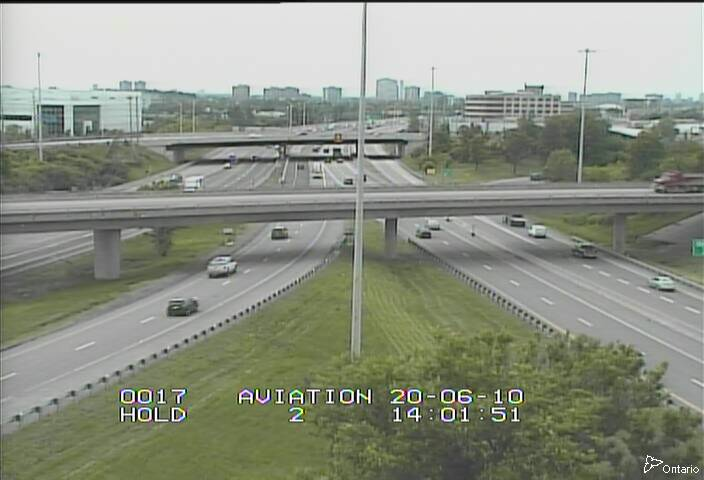time_stamp: (383, 407, 534, 428), (383, 386, 531, 407)
